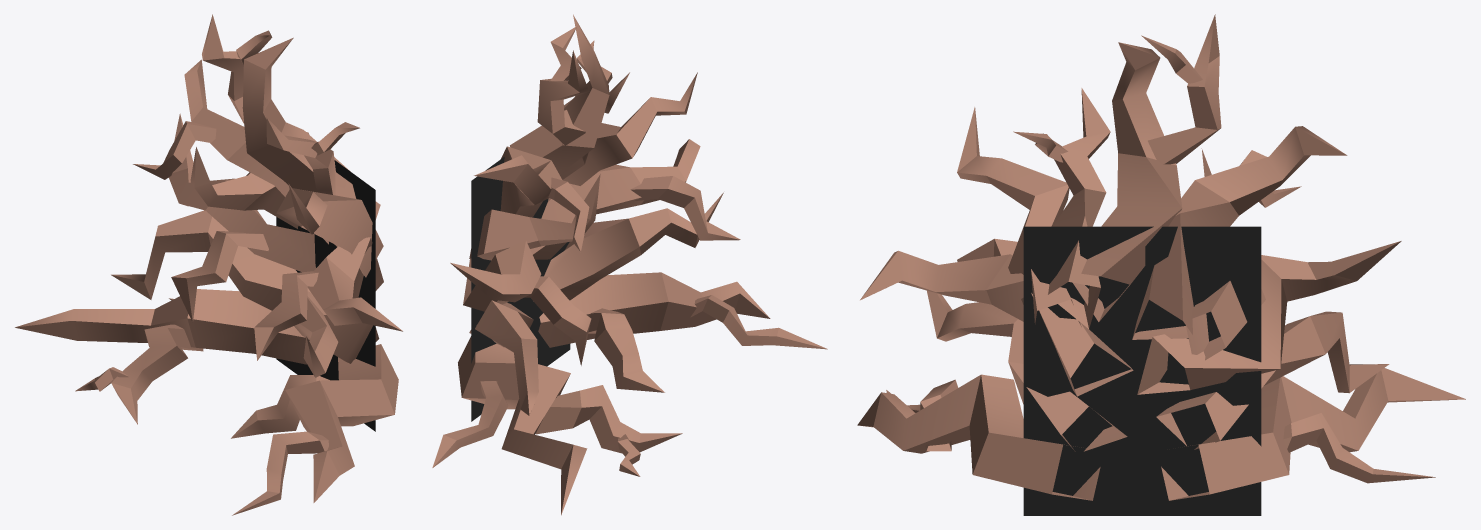
File: nest.fbx
3 views of the same model, side by side, from view 1: azimuth 30°, elevation 25°; view 2: azimuth 150°, elevation 25°; view 3: azimuth 270°, elevation 25° (orthographic). The views are drawn at different scales.
Parts seen in each view (by area): view 1: nest; view 2: nest; view 3: nest.
Part boxes in pixels (x1,y1,x2,y2): nest: [15, 14, 402, 515]; nest: [432, 14, 827, 515]; nest: [857, 14, 1465, 515].
Size of the model in its own units: 50.54 by 77.35 by 94.24.
